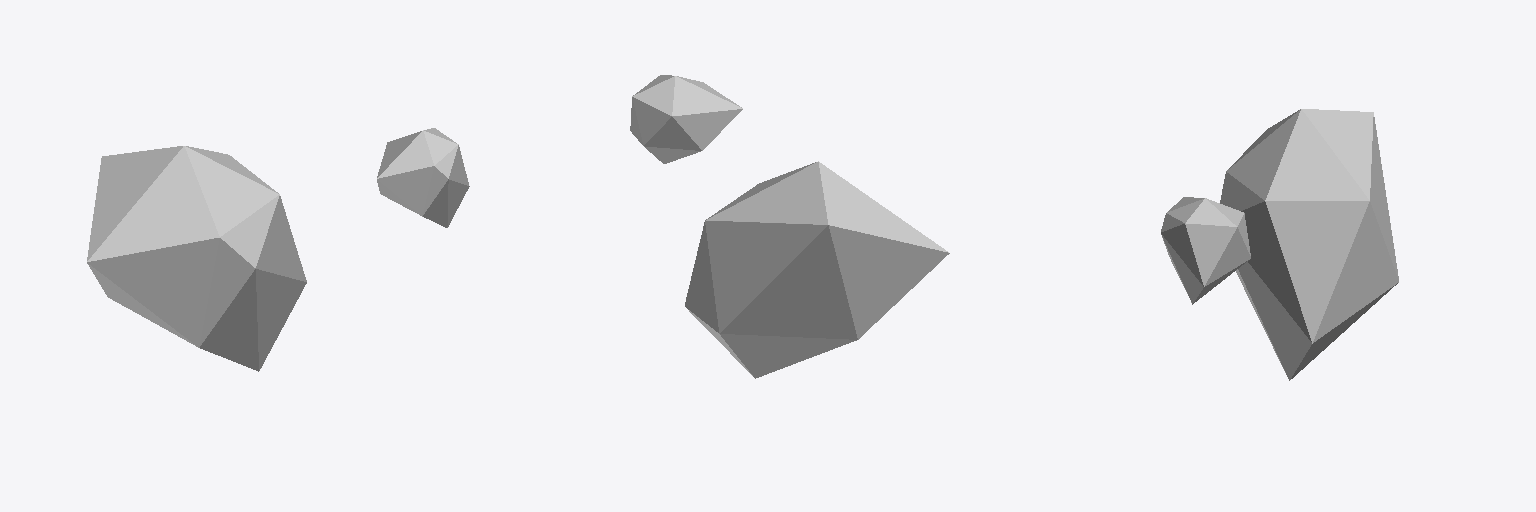
File: Asteroid3.obj
3 renders of one model, left to right at view 1: azimuth 30°, elevation 25°; view 2: azimuth 150°, elevation 25°; view 3: azimuth 270°, elevation 25°, orthographic.
Visible parts, largest first — view 1: Icosphere; view 2: Icosphere; view 3: Icosphere.
Part boxes in pixels (x1,y1,x2,y2): Icosphere: (87,128,469,371); Icosphere: (630,75,949,378); Icosphere: (1161,109,1398,380).
Bounding box in the file's own units: 3.06 × 2.02 × 1.8.